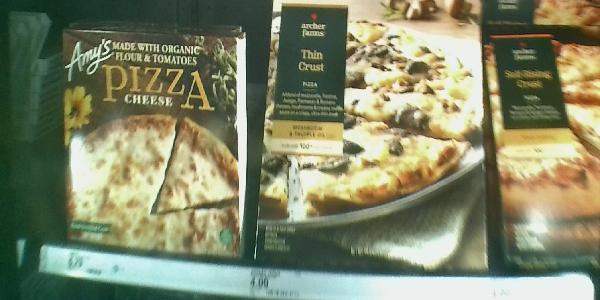pizza1: (252, 1, 491, 275), (57, 28, 245, 259)
